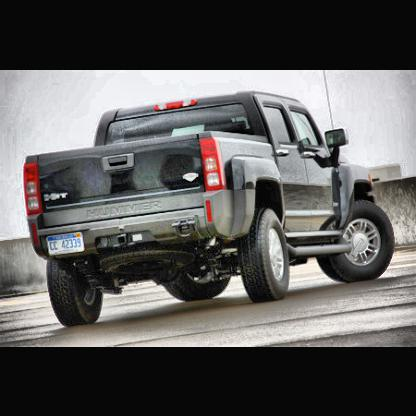HUMMER H3T Crew Cab 2010: (23, 88, 397, 326)
